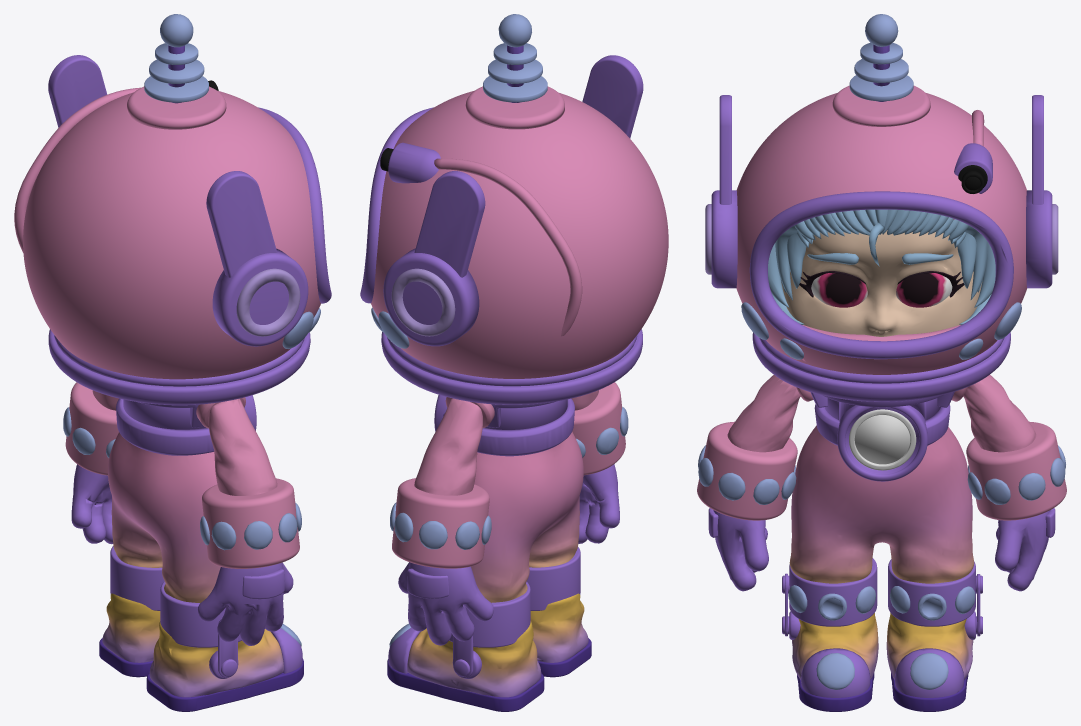
File: soshie.glb
The picture shows the model from 3 angles, left to right: view 1: azimuth 30°, elevation 25°; view 2: azimuth 150°, elevation 25°; view 3: azimuth 270°, elevation 25°; orthographic projection.
Visible parts, largest first — view 1: Soshie; view 2: Soshie; view 3: Soshie.
Part boxes in pixels (x1=…): Soshie: x1=14, y1=14, x2=331, y2=711; Soshie: x1=360, y1=14, x2=668, y2=711; Soshie: x1=697, y1=14, x2=1066, y2=711.
Size of the model in its own units: 0.0584 by 0.1394 by 0.072.
